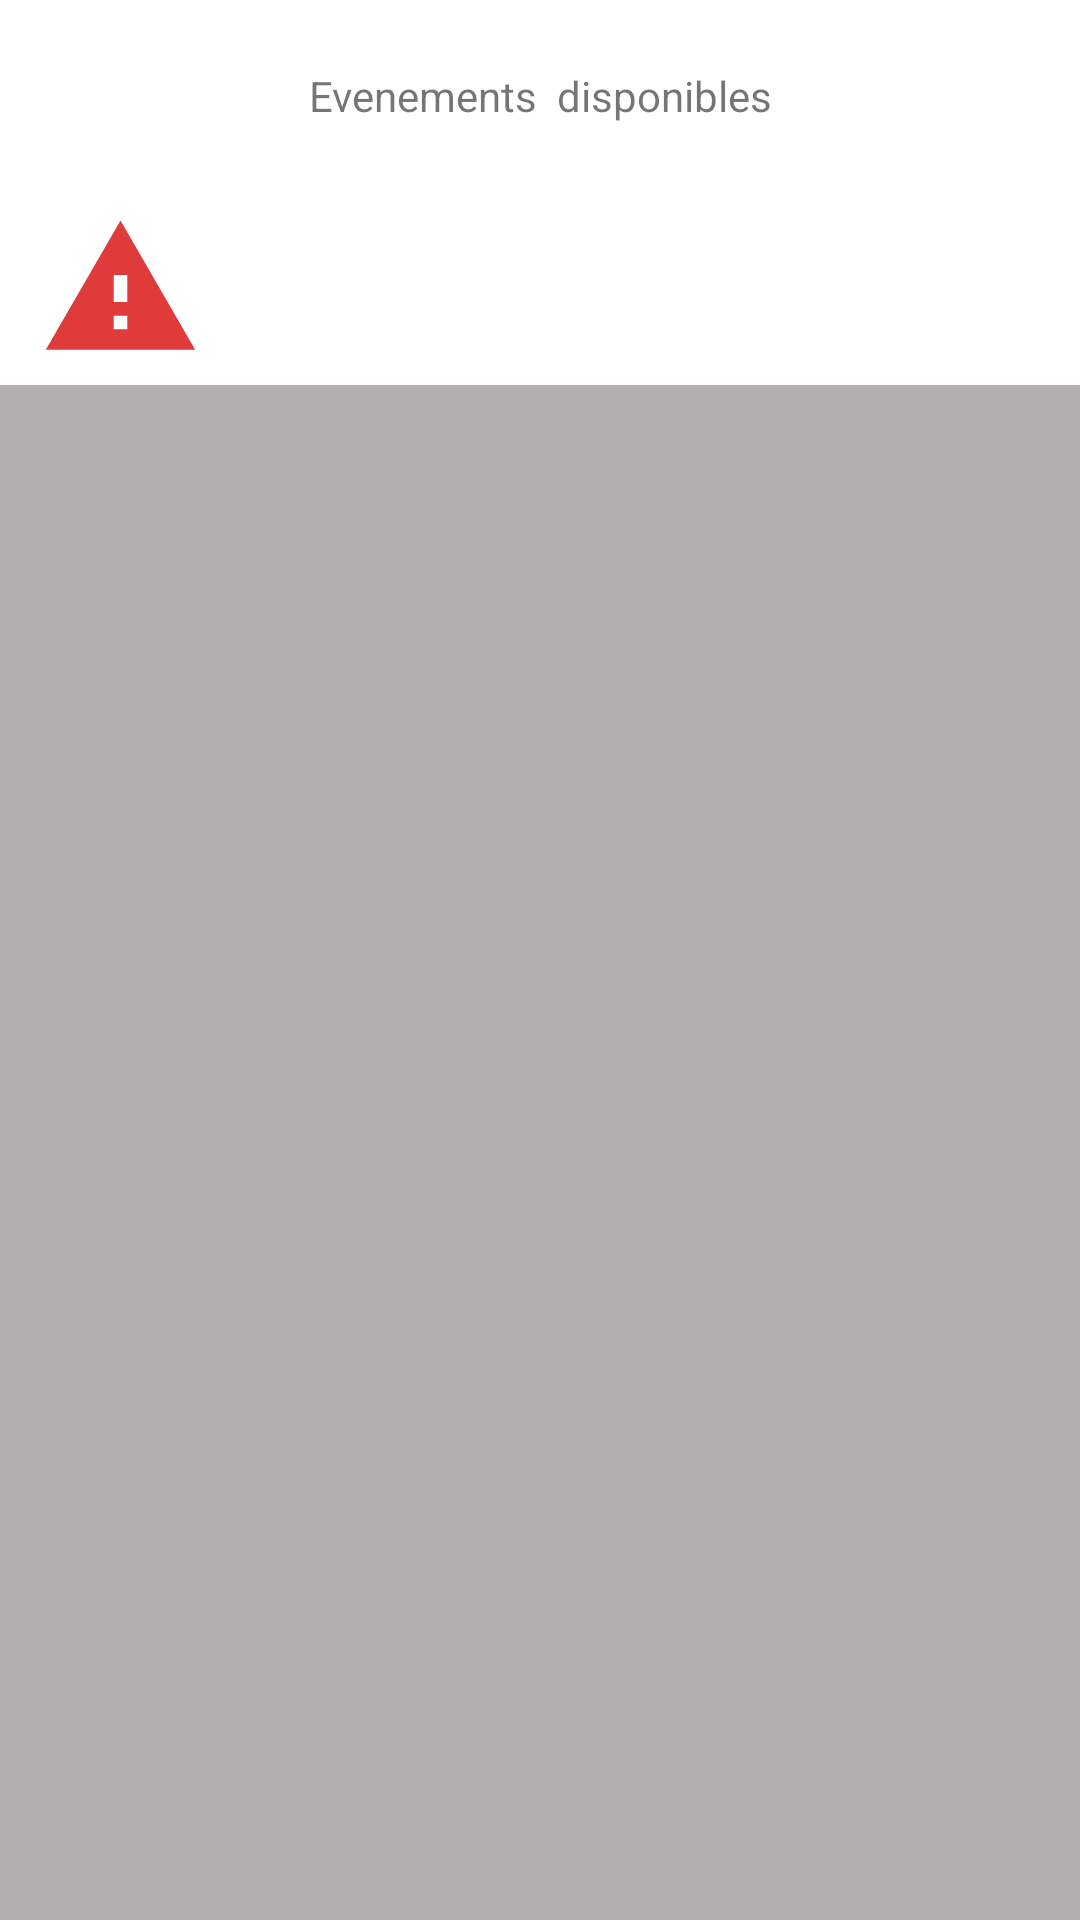

Point at icon controls on the screen. Image size 1080px x 1920px, points as (x=x, y=y).
caution: (x=120, y=285)
